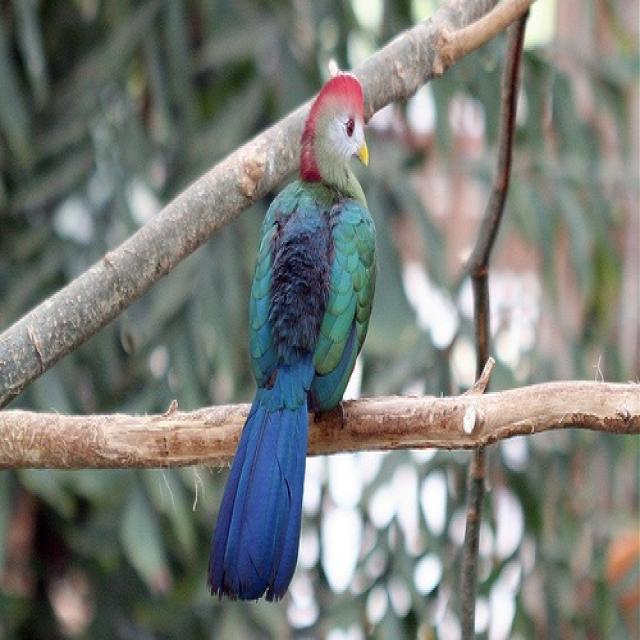bird: (204, 71, 378, 602)
